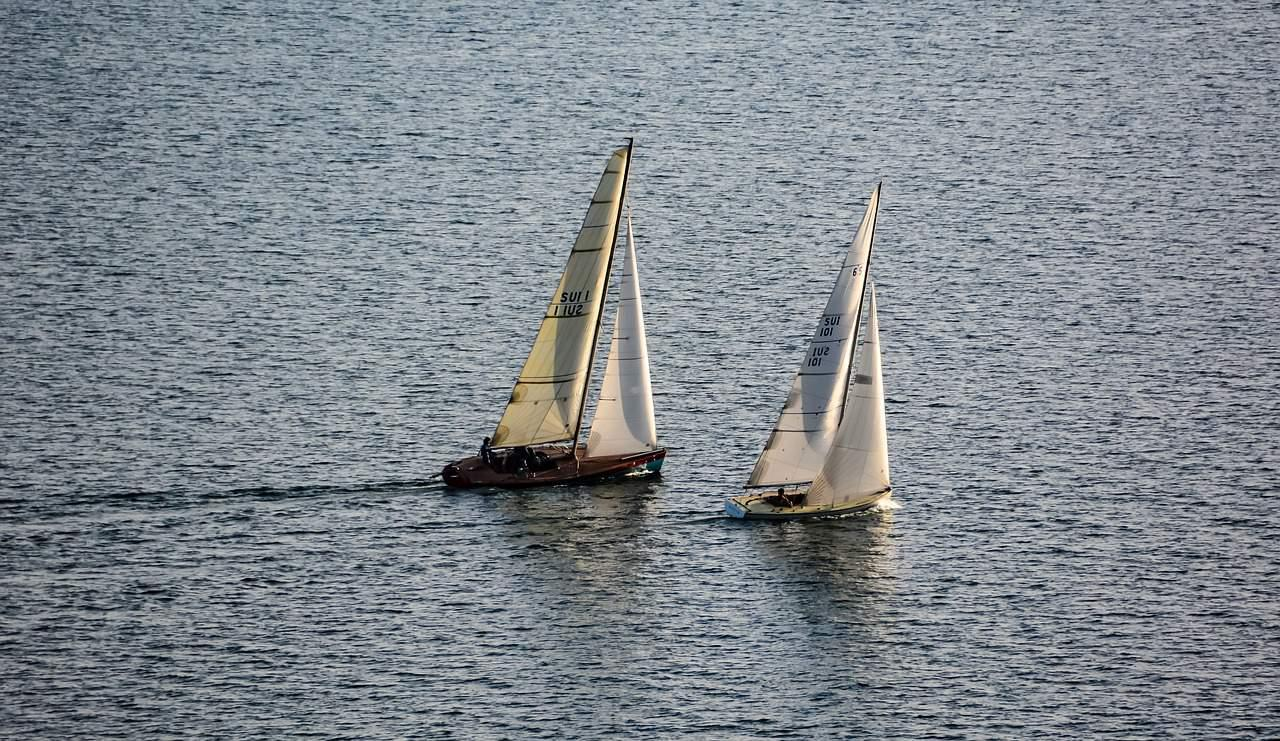Ship: (444, 136, 675, 494), (726, 180, 895, 524)
